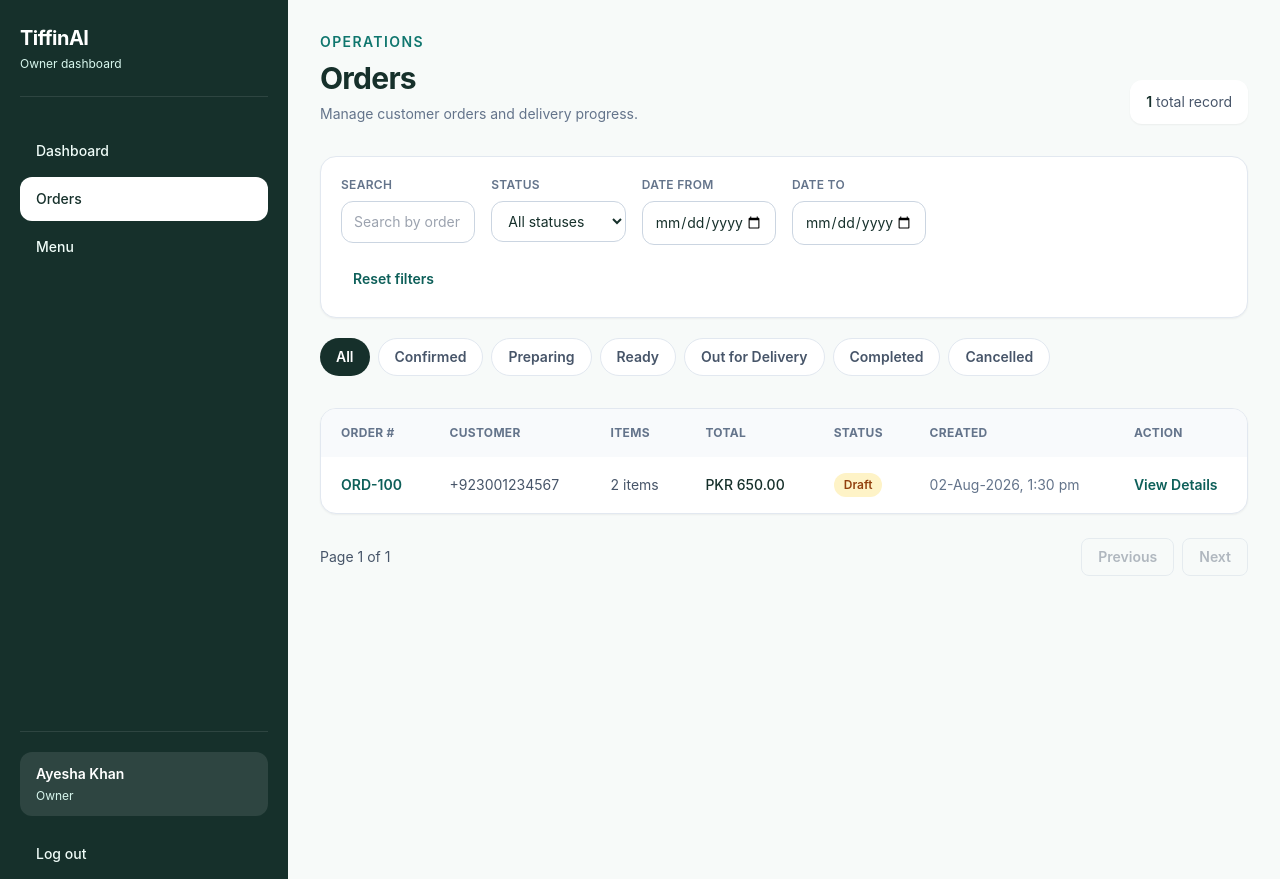
Test: OrdersPage › opens details, shows only valid next actions, and performs a successful transition
Click the button "ORD-100": point(371, 485) [341, 475, 402, 495]
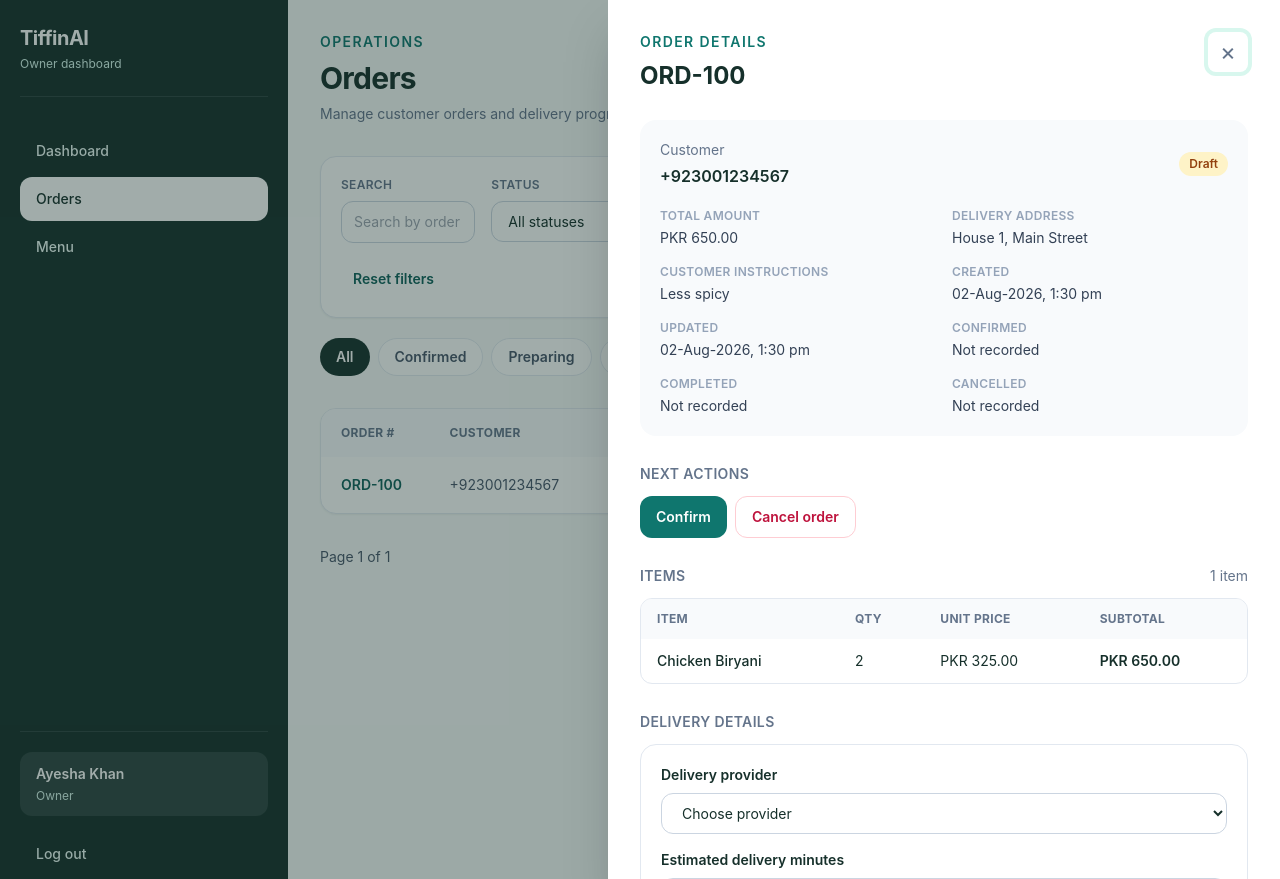
Expected: the dialog "ORD-100" shows "House 1, Main Street", [952, 229, 1088, 246]
Expected: the text "Chicken Biryani" is shown, [641, 639, 839, 683]
Expected: the button "Confirm" is shown
Click the button "Confirm": point(683, 517) [640, 496, 727, 538]
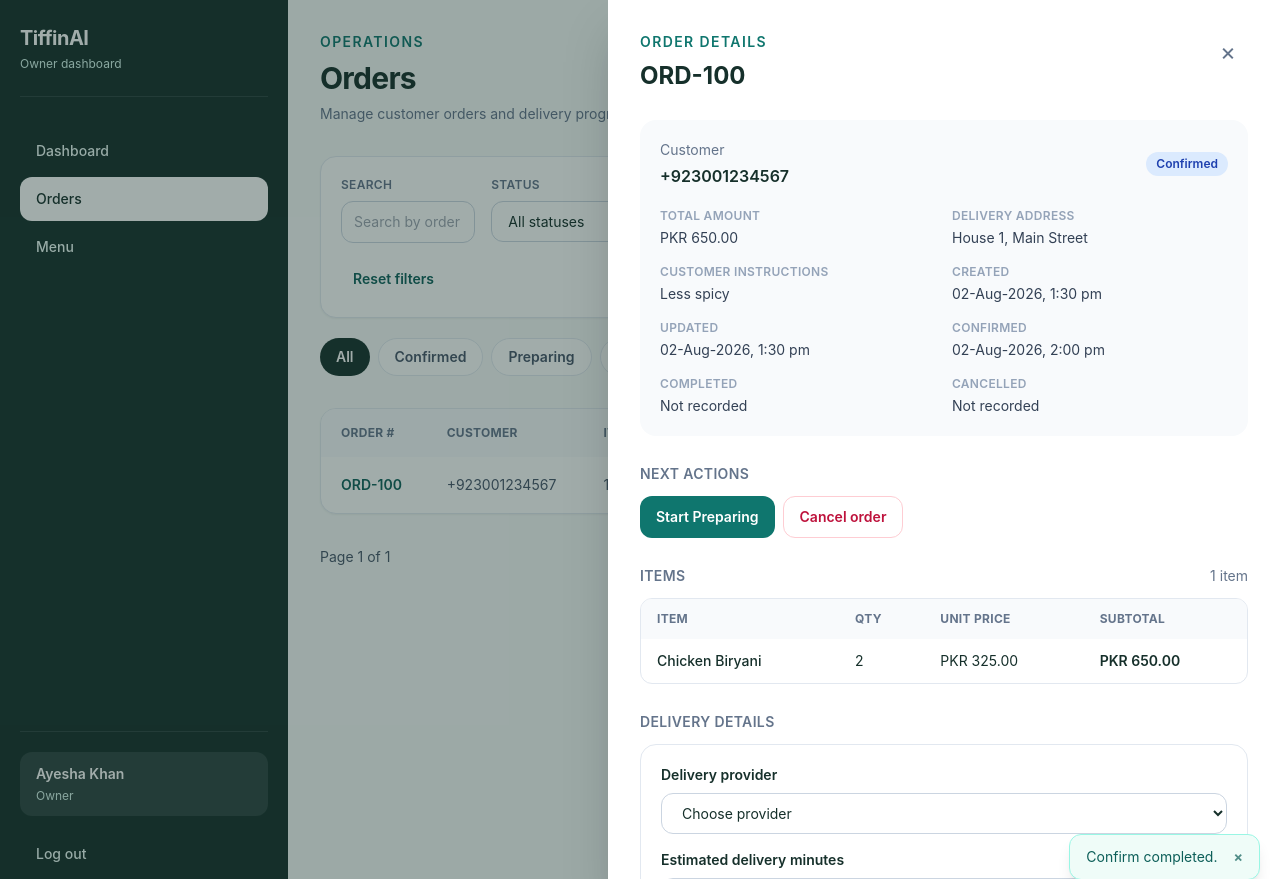
Expected: the message shows "Confirm completed.", [1086, 848, 1218, 865]
